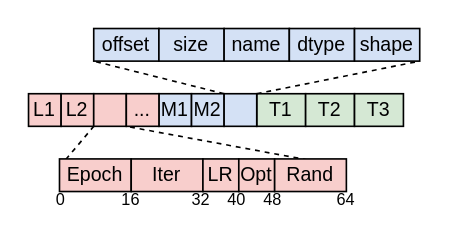
The diagram is 450 pixels wide and 240 high, and some of its shapes have lost their labels. The box of each missing label's shape, as (x1, y1, x2, y2) in pixels:
L3: (92, 92, 126, 126)
M3: (222, 92, 257, 126)
